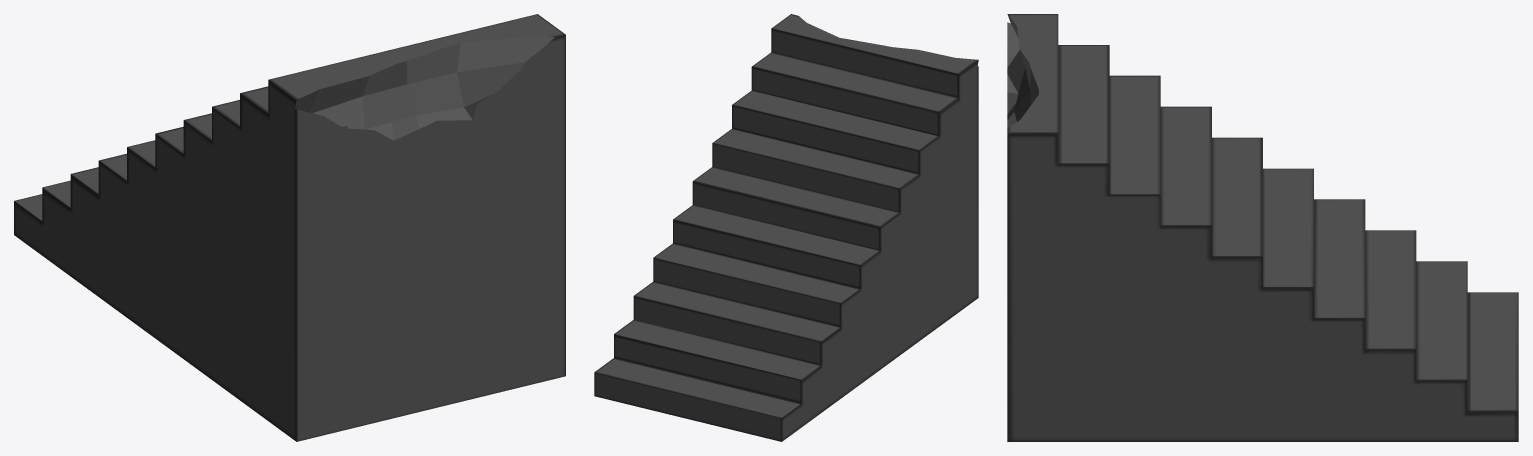
The model's file is MERDİVEN2.fbx.
The picture shows the model from 3 angles, left to right: view 1: azimuth 30°, elevation 25°; view 2: azimuth 150°, elevation 25°; view 3: azimuth 270°, elevation 25°; orthographic projection. The views are drawn at different scales.
Parts seen in each view (by area): view 1: Stairs_0_35___1_.005; view 2: Stairs_0_35___1_.005; view 3: Stairs_0_35___1_.005.
Part boxes in pixels (left/top/right/bottom): Stairs_0_35___1_.005: left=14, top=14, right=565, bottom=441; Stairs_0_35___1_.005: left=594, top=14, right=978, bottom=441; Stairs_0_35___1_.005: left=1007, top=14, right=1518, bottom=441.
Bounding box in the file's own units: 3 × 3.64 × 5.45.
1 material, 1 textured.
